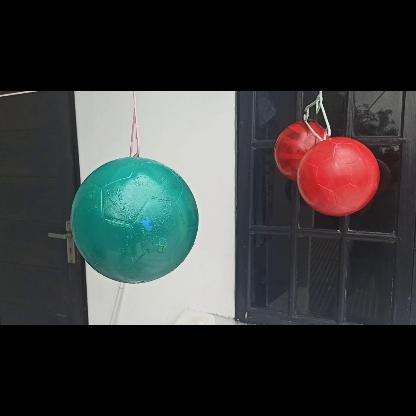red_ball: (300, 138, 378, 214)
